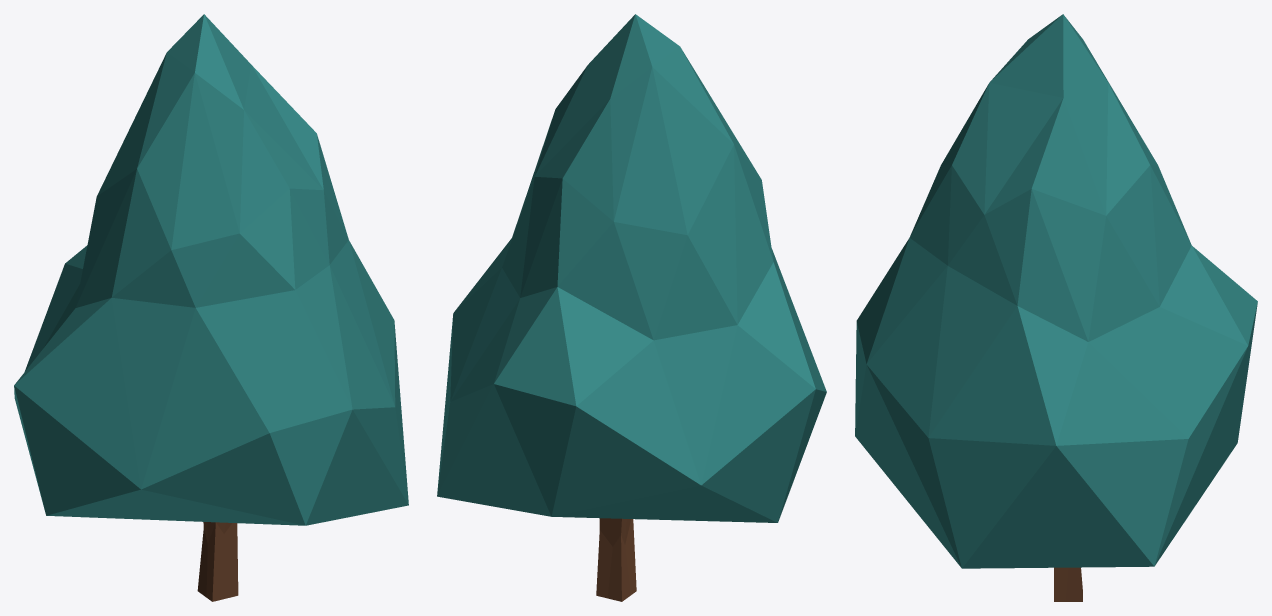
File: Tree_14_Blue.fbx
3 renders of one model, left to right at view 1: azimuth 30°, elevation 25°; view 2: azimuth 150°, elevation 25°; view 3: azimuth 270°, elevation 25°, orthographic.
Parts seen in each view (by area): view 1: Tree_14_Blue_Part_1, Tree_14_Blue_Part_2; view 2: Tree_14_Blue_Part_1, Tree_14_Blue_Part_2; view 3: Tree_14_Blue_Part_1, Tree_14_Blue_Part_2.
Boxes of the visible parts, left/top/right/bottom form: Tree_14_Blue_Part_1: left=14, top=14, right=408, bottom=525; Tree_14_Blue_Part_2: left=197, top=522, right=238, bottom=601; Tree_14_Blue_Part_1: left=437, top=14, right=826, bottom=522; Tree_14_Blue_Part_2: left=596, top=518, right=636, bottom=601; Tree_14_Blue_Part_1: left=855, top=14, right=1257, bottom=568; Tree_14_Blue_Part_2: left=1054, top=567, right=1082, bottom=601.
Size of the model in its own units: 527 by 791 by 503.
